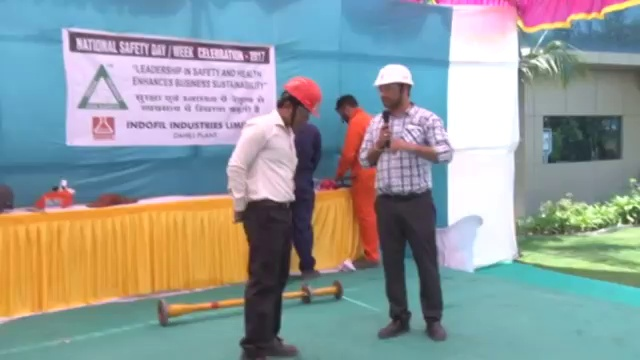helmet: (283, 74, 322, 118), (373, 63, 415, 89)
helmet_off: (334, 94, 361, 124)
helmet_on: (274, 73, 324, 138), (371, 61, 417, 119)
person: (226, 72, 323, 360), (358, 61, 456, 342), (334, 93, 382, 272), (291, 117, 324, 279)
